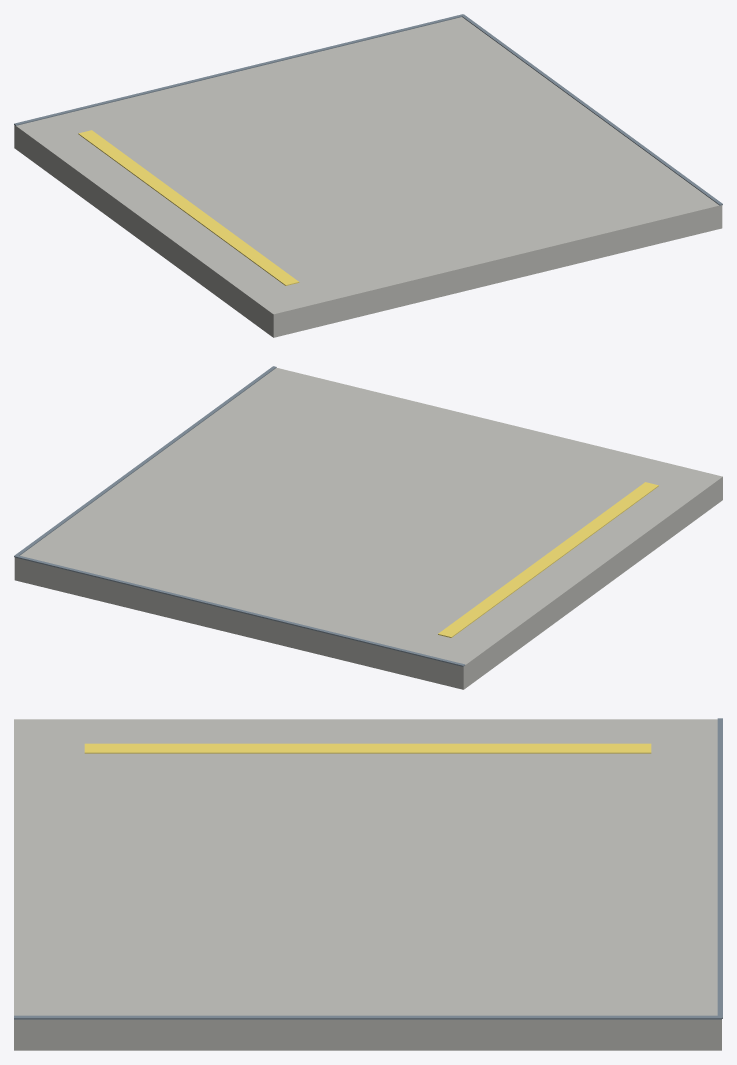
Rendered from WH_Floor.fbx.
The picture shows the model from 3 angles, top to bottom: view 1: azimuth 30°, elevation 25°; view 2: azimuth 150°, elevation 25°; view 3: azimuth 270°, elevation 25°; orthographic projection. The views are drawn at different scales.
Visible parts, largest first — view 1: WH_Floor; view 2: WH_Floor; view 3: WH_Floor.
Boxes of the visible parts, box(x1,y1,x2,y2) form: WH_Floor: box(14, 14, 722, 337); WH_Floor: box(14, 366, 722, 689); WH_Floor: box(14, 718, 722, 1050).
Bounding box in the file's own units: 4.01 × 0.208 × 4.01.
